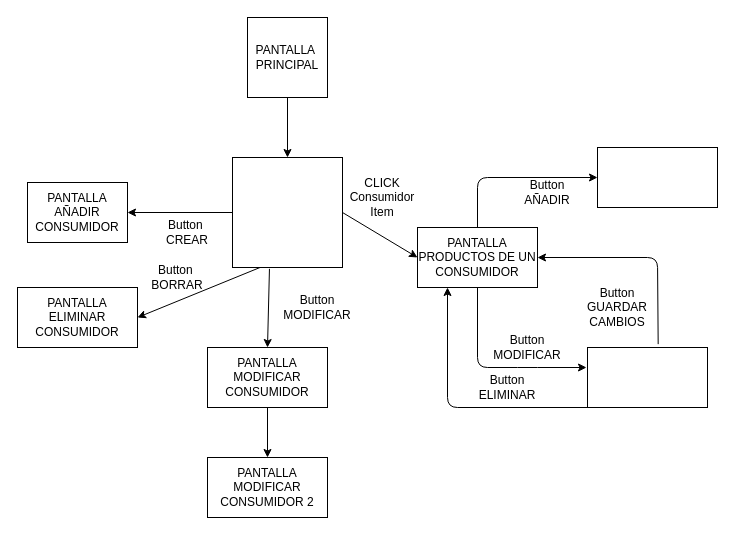
This 735x535 diagram has some shape labels left out. The shapes that lost their labels are listed below. From the top down, each one's centre as x and y in pixels, then its label:
At point (657, 177): "PANTALLA AÑADIR PRODUCTO".
At point (287, 212): "PANTALLA CONSUMIDORES".
At point (647, 377): "PANTALLA MODIFICAR PRODUCTO".
